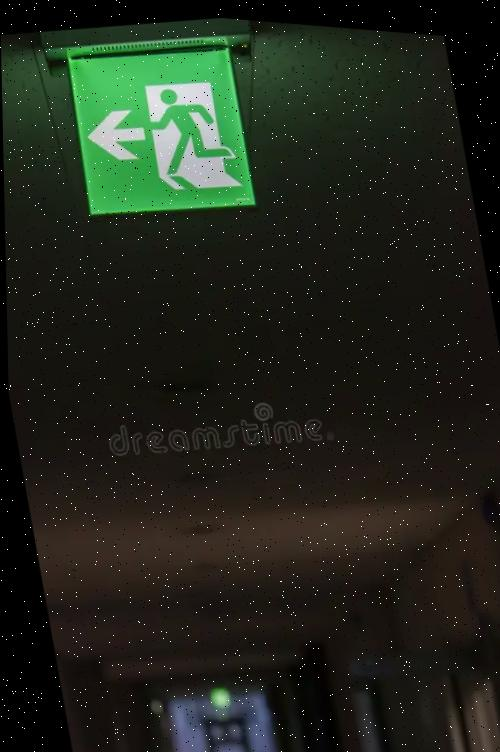emergency_exit: (64, 38, 257, 218)
